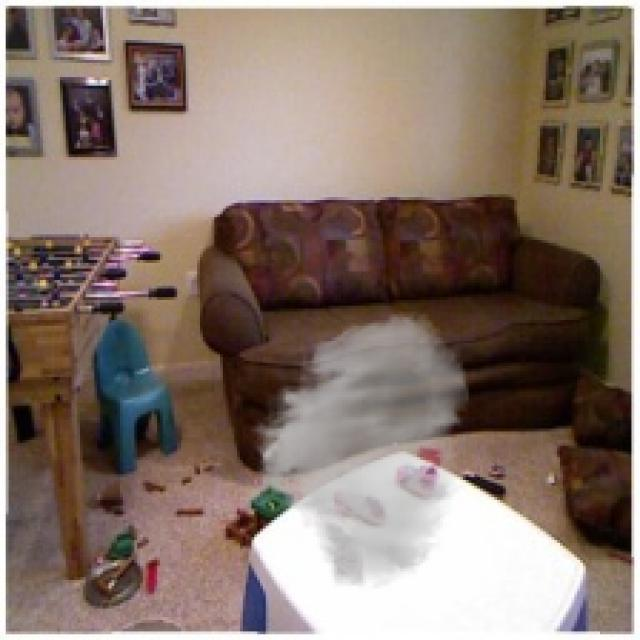Smoke: (246, 308, 471, 592)
